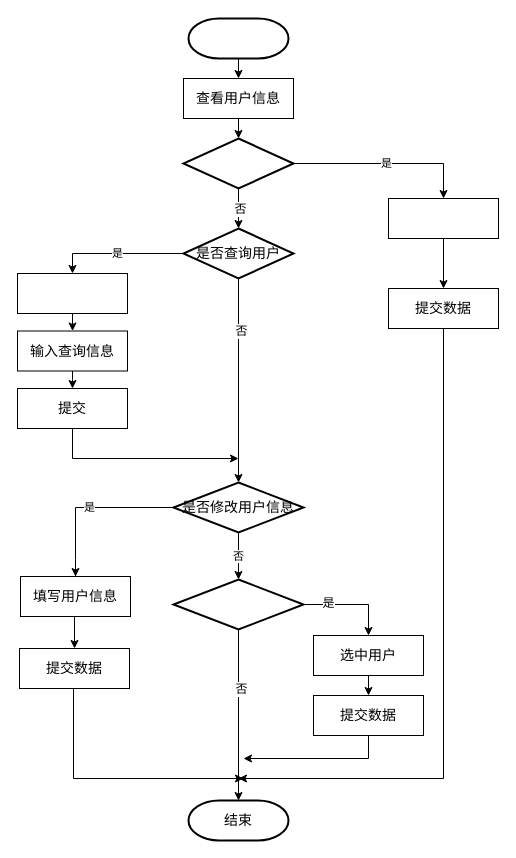
Image size: 516x858. Some labels were removed from this diagram. Each missing label, with the centre of its shape:
"填写数据" belongs at (x=443, y=218).
"开始" belongs at (x=238, y=38).
"是否删除用户信息" belongs at (x=238, y=604).
"是否添加用户" belongs at (x=238, y=163).
"选择查询数据" belongs at (x=72, y=293).
